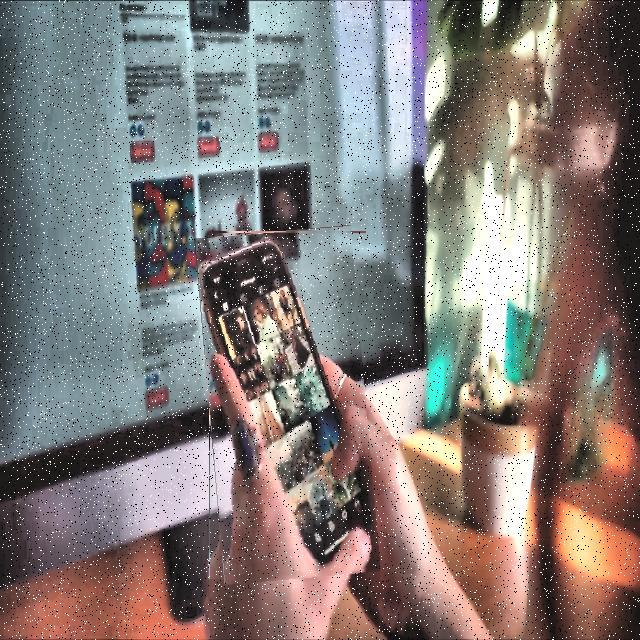Phone: (202, 228, 373, 582)
